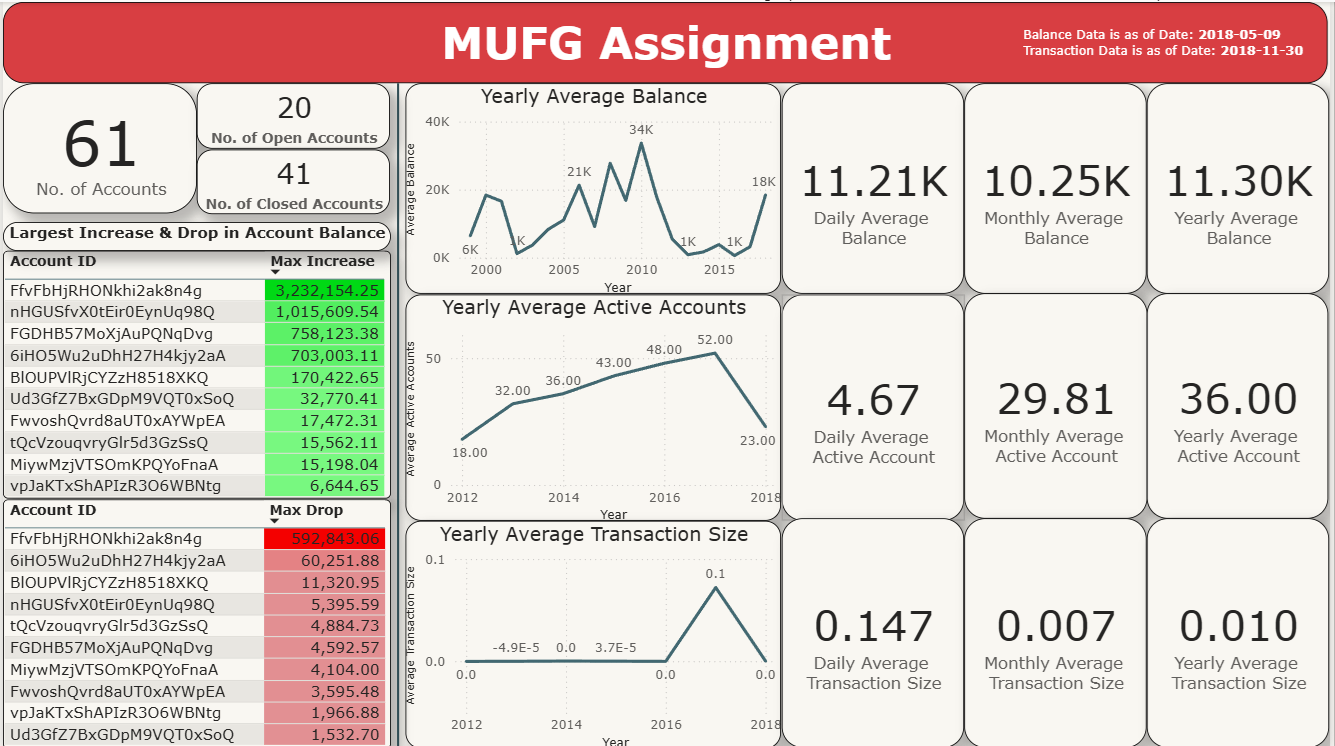

What the dashboard file says about the page in this screenshot:
{"tool":"powerbi","page":{"name":"MUFG Assignment - Required","canvas":[1280,720],"ordinal":0},"visuals":[{"type":"lineChart","title":"Yearly Average Balance","fields":{"Category":["df_balance.balance_date.Variation.Date Hierarchy.Year"],"Y":["Avg(df_balance.ya_average_balance)"]},"box":[388.6,78.8,362.7,203.1],"z":0},{"type":"card","fields":{"Values":["Avg(df_balance.tot_da_average_balance)"]},"box":[751.3,78.8,176.2,203.1],"z":1000},{"type":"card","fields":{"Values":["Avg(df_balance.tot_ma_average_balance)"]},"box":[927.5,78.8,176.2,203.1],"z":2000},{"type":"card","fields":{"Values":["Avg(df_balance.tot_ya_average_balance)"]},"box":[1103.6,78.8,176.2,203.1],"z":3000},{"type":"lineChart","title":"Yearly Average Active Accounts","fields":{"Category":["df_txns.transaction_date.Variation.Date Hierarchy.Year"],"Y":["Avg(df_txns.ya_average_active_accounts)"]},"box":[388.6,281.9,362.7,218.7],"z":4000},{"type":"card","fields":{"Values":["Avg(df_txns.tot_da_average_active_accounts)"]},"box":[751.3,281.9,176.2,218.7],"z":5000},{"type":"card","fields":{"Values":["Avg(df_txns.tot_ma_average_active_accounts)"]},"box":[927.9,281.4,176.4,217.7],"z":6000},{"type":"card","fields":{"Values":["Avg(df_txns.tot_ya_average_active_accounts)"]},"box":[1104.3,281.4,175.3,217.7],"z":7000},{"type":"lineChart","title":"Yearly Average Transaction Size","fields":{"Category":["df_txns.transaction_date.Variation.Date Hierarchy.Year"],"Y":["Avg(df_txns.ya_average_txn_size)"]},"box":[388.6,500.5,362.7,219.7],"z":8000},{"type":"card","fields":{"Values":["Avg(df_txns.tot_da_average_txn_size)"]},"box":[751.3,498.4,176.2,221.8],"z":9000},{"type":"card","fields":{"Values":["Avg(df_txns.tot_ma_average_txn_size)"]},"box":[927.5,498.4,176.2,221.8],"z":10000},{"type":"card","fields":{"Values":["Avg(df_txns.tot_ya_average_txn_size)"]},"box":[1103.6,498.4,176.2,221.8],"z":11000},{"type":"tableEx","fields":{"Values":["df_balance.id","Max(df_balance.increase_drop_value)"]},"box":[0,240.4,374.1,239.4],"z":12000},{"type":"tableEx","fields":{"Values":["df_balance.id","Max(df_balance.increase_drop_value)"]},"box":[0,479.8,374.1,240.4],"z":13000},{"type":"card","fields":{"Values":["Count(df_accounts.id)"]},"box":[0,78.8,187.6,125.4],"z":14000},{"type":"card","fields":{"Values":["Count(df_accounts.id)"]},"box":[187.6,78.8,186.5,63.2],"z":15000},{"type":"card","fields":{"Values":["Count(df_accounts.id)"]},"box":[187.6,142,186.5,62.2],"z":16000},{"type":"textbox","box":[0,0,1278.8,78.8],"z":17000},{"type":"textbox","box":[0,212.4,374.1,28],"z":18000},{"type":"shape","box":[374.1,78.4,14.6,641.7],"z":19000},{"type":"textbox","box":[979.3,16.7,292.6,46.9],"z":20000}]}

Visuals, with their boxes in screenshot pixels (x1, y1, x2, y2), scaled from the page's 1280x720 canvas onto the 1335x746 screenshot:
"Yearly Average Balance" lineChart: select_region(405, 82, 784, 292)
card - Avg(df_balance.tot_da_average_balance): select_region(784, 82, 967, 292)
card - Avg(df_balance.tot_ma_average_balance): select_region(967, 82, 1151, 292)
card - Avg(df_balance.tot_ya_average_balance): select_region(1151, 82, 1334, 292)
"Yearly Average Active Accounts" lineChart: select_region(405, 292, 784, 519)
card - Avg(df_txns.tot_da_average_active_accounts): select_region(784, 292, 967, 519)
card - Avg(df_txns.tot_ma_average_active_accounts): select_region(968, 292, 1152, 517)
card - Avg(df_txns.tot_ya_average_active_accounts): select_region(1152, 292, 1334, 517)
"Yearly Average Transaction Size" lineChart: select_region(405, 519, 784, 745)
card - Avg(df_txns.tot_da_average_txn_size): select_region(784, 516, 967, 745)
card - Avg(df_txns.tot_ma_average_txn_size): select_region(967, 516, 1151, 745)
card - Avg(df_txns.tot_ya_average_txn_size): select_region(1151, 516, 1334, 745)
tableEx - df_balance.id x Max(df_balance.increase_drop_value): select_region(0, 249, 390, 497)
tableEx - df_balance.id x Max(df_balance.increase_drop_value): select_region(0, 497, 390, 745)
card - Count(df_accounts.id): select_region(0, 82, 196, 212)
card - Count(df_accounts.id): select_region(196, 82, 390, 147)
card - Count(df_accounts.id): select_region(196, 147, 390, 212)
textbox: select_region(0, 0, 1334, 82)
textbox: select_region(0, 220, 390, 249)
shape: select_region(390, 81, 405, 745)
textbox: select_region(1021, 17, 1327, 66)
